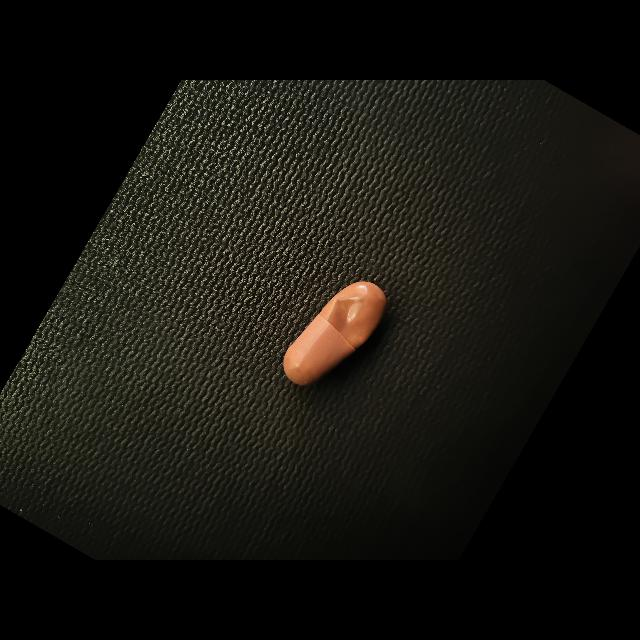Defective Capsule: (327, 298, 366, 345)
